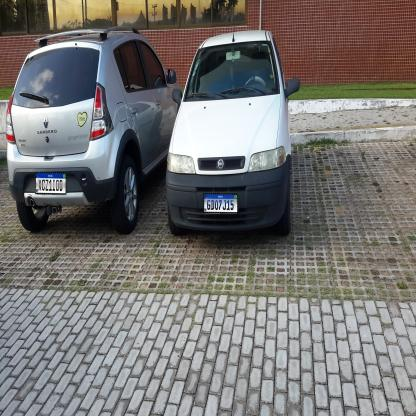PlacaM: (203, 193, 238, 213), (35, 172, 66, 194)
